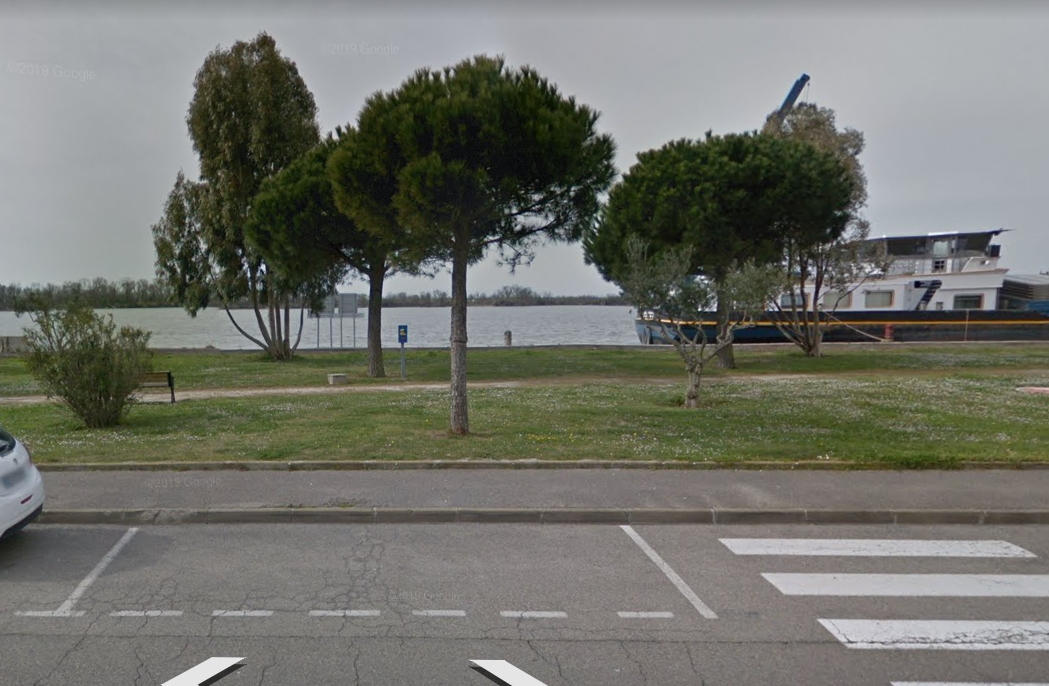Tree: (304, 52, 621, 437), (617, 119, 855, 424), (151, 33, 336, 367), (275, 129, 438, 375)
